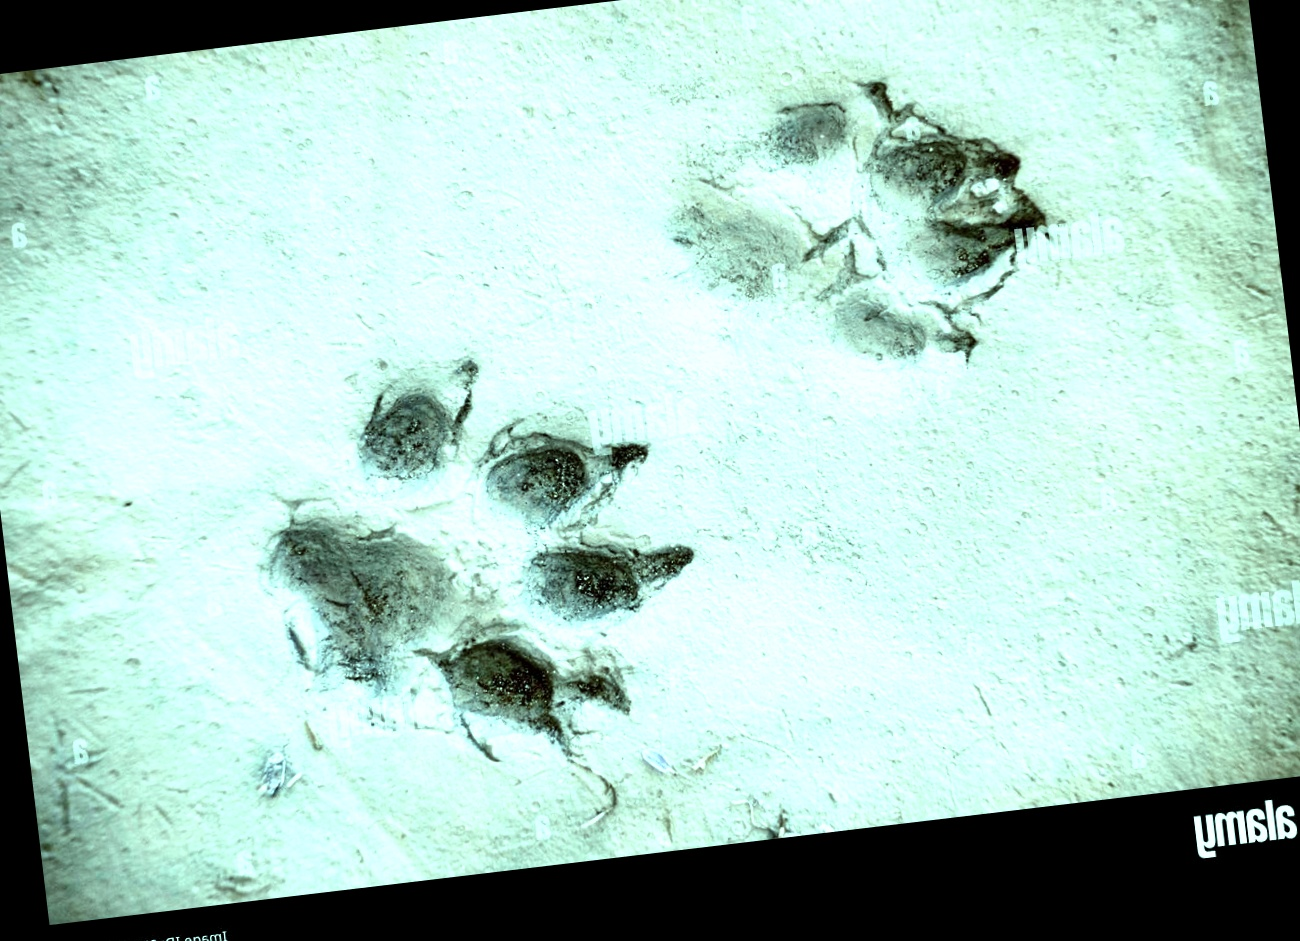loup: (605, 297, 1100, 783), (183, 70, 625, 417)
